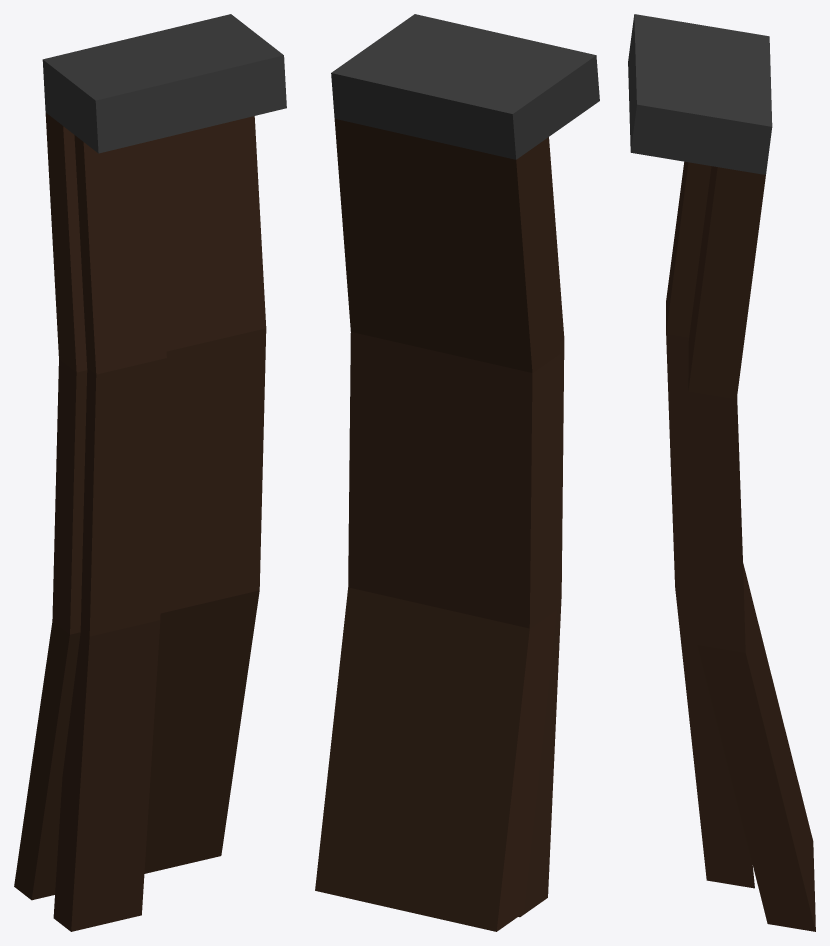
File: Cave_Lair_Wooden_Timber_Metal_Hull_Broken_Junk_02.fbx
The picture shows the model from 3 angles, left to right: view 1: azimuth 30°, elevation 25°; view 2: azimuth 150°, elevation 25°; view 3: azimuth 270°, elevation 25°; orthographic projection. The views are drawn at different scales.
Parts seen in each view (by area): view 1: Cave_Lair_Wooden_Timber_Metal_Hull_Broken_Junk_02; view 2: Cave_Lair_Wooden_Timber_Metal_Hull_Broken_Junk_02; view 3: Cave_Lair_Wooden_Timber_Metal_Hull_Broken_Junk_02.
Boxes of the visible parts, left/top/right/bottom form: Cave_Lair_Wooden_Timber_Metal_Hull_Broken_Junk_02: left=14, top=14, right=286, bottom=931; Cave_Lair_Wooden_Timber_Metal_Hull_Broken_Junk_02: left=315, top=14, right=599, bottom=931; Cave_Lair_Wooden_Timber_Metal_Hull_Broken_Junk_02: left=628, top=14, right=815, bottom=931.
Bounding box in the file's own units: 0.9339 × 3.73 × 0.7631.
